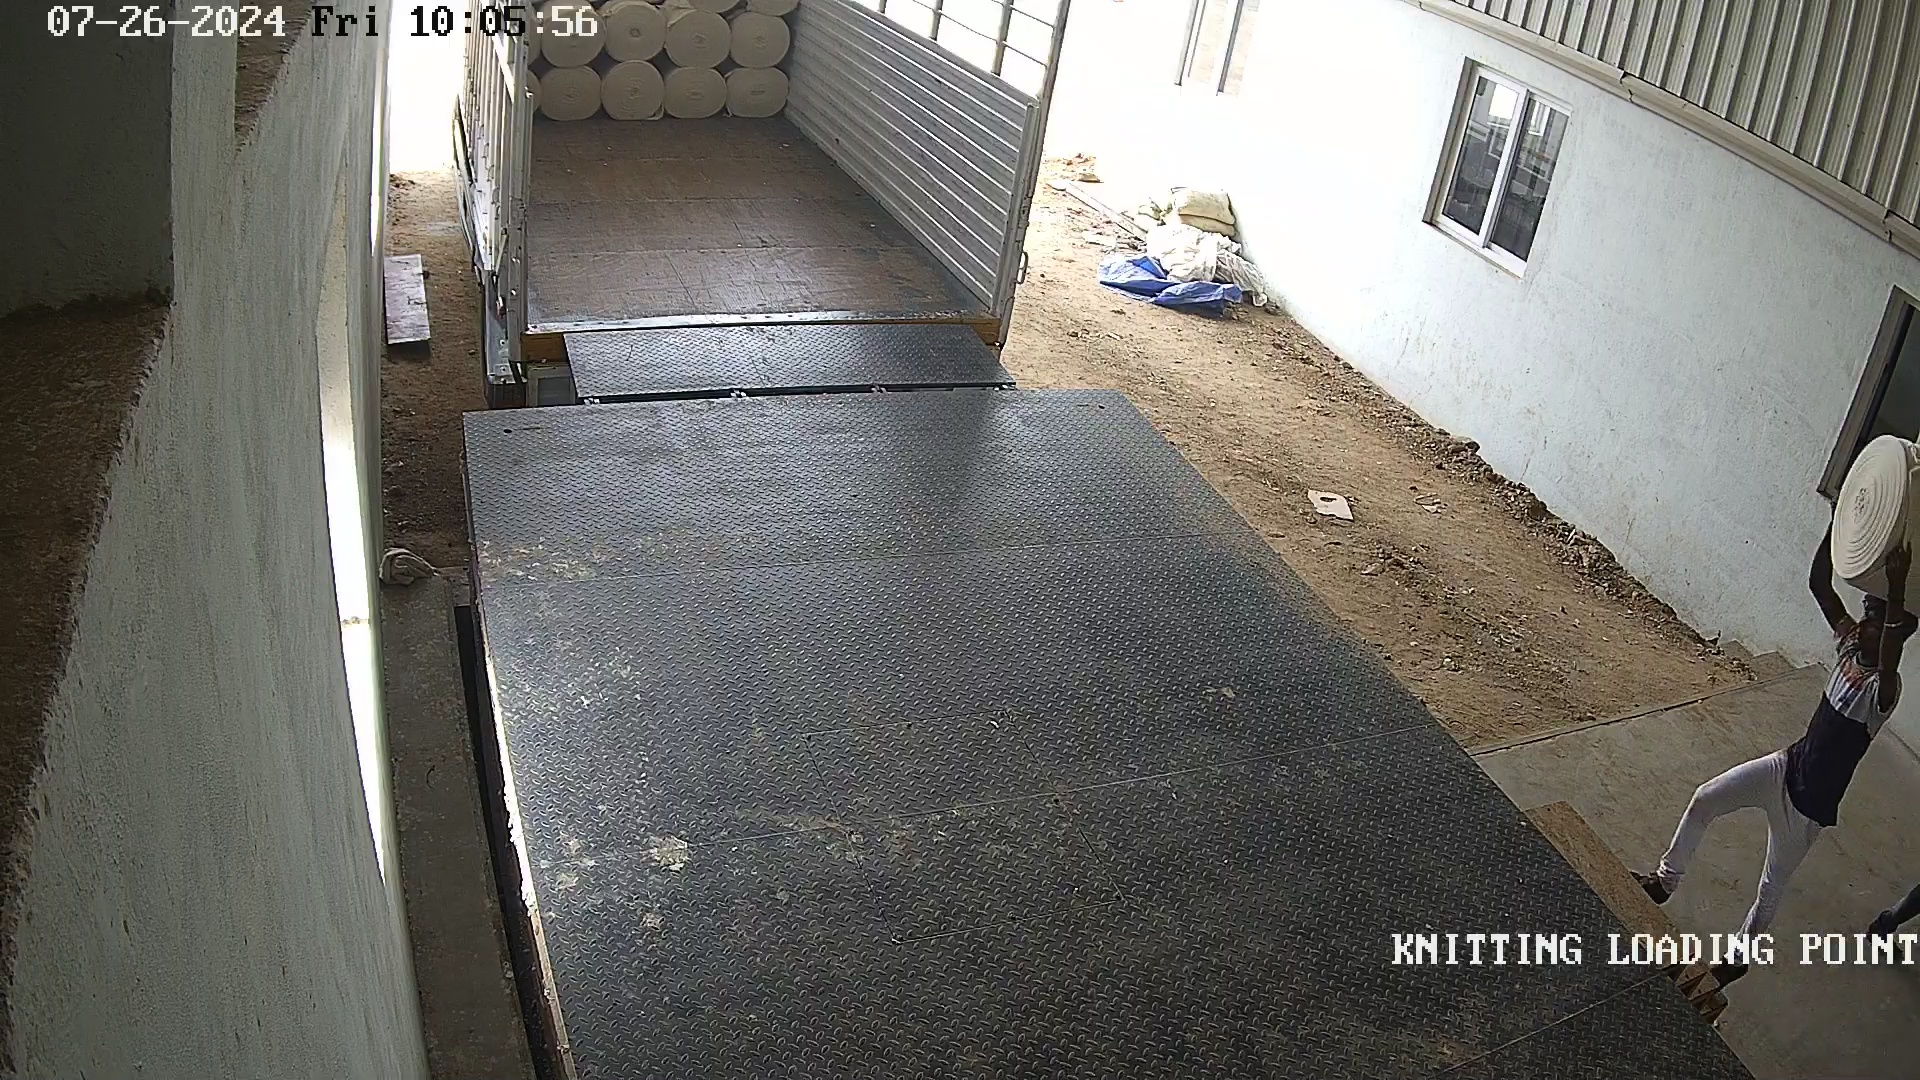bag: (1828, 434, 1920, 608)
